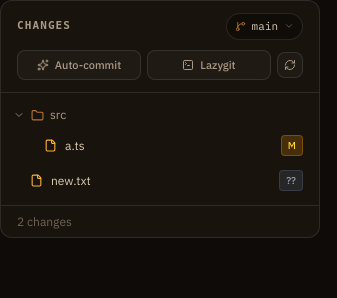
Test: GitPanel › auto-commit commits and shows the message
Click the button titled "AI auto-commit (stages all changes)" at (79, 65), box [17,50,141,80]
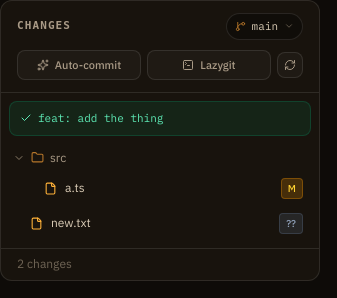
Expected: the text "feat: add the thing" is shown, [38,110,163,126]
